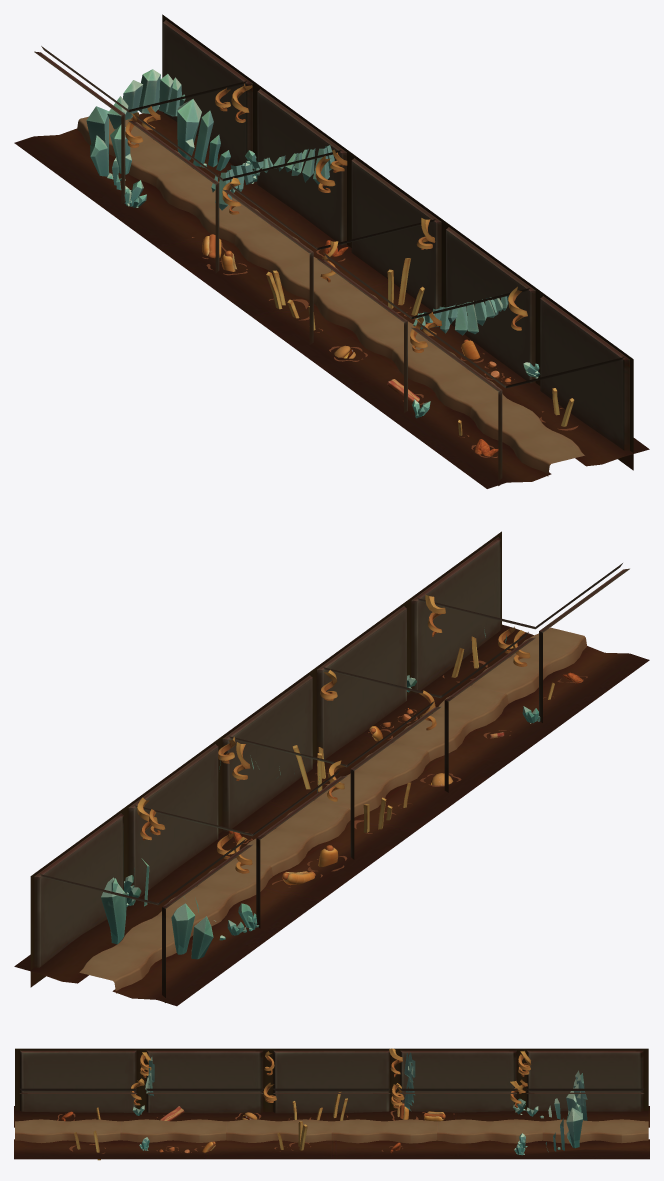
File: stg2_A.gltf
3 renders of one model, top to bottom at view 1: azimuth 30°, elevation 25°; view 2: azimuth 150°, elevation 25°; view 3: azimuth 270°, elevation 25°, orthographic. The views are drawn at different scales.
Parts seen in each view (by area): view 1: stg2_A_GEO:PIV; view 2: stg2_A_GEO:PIV; view 3: stg2_A_GEO:PIV.
Part boxes in pixels (x1,y1,x2,y2): stg2_A_GEO:PIV: [14, 14, 649, 488]; stg2_A_GEO:PIV: [14, 531, 649, 1006]; stg2_A_GEO:PIV: [14, 1048, 649, 1160].
Bounding box in the file's own units: 4194 × 3167 × 21095.
Materials: 4 (4 with a texture image).
